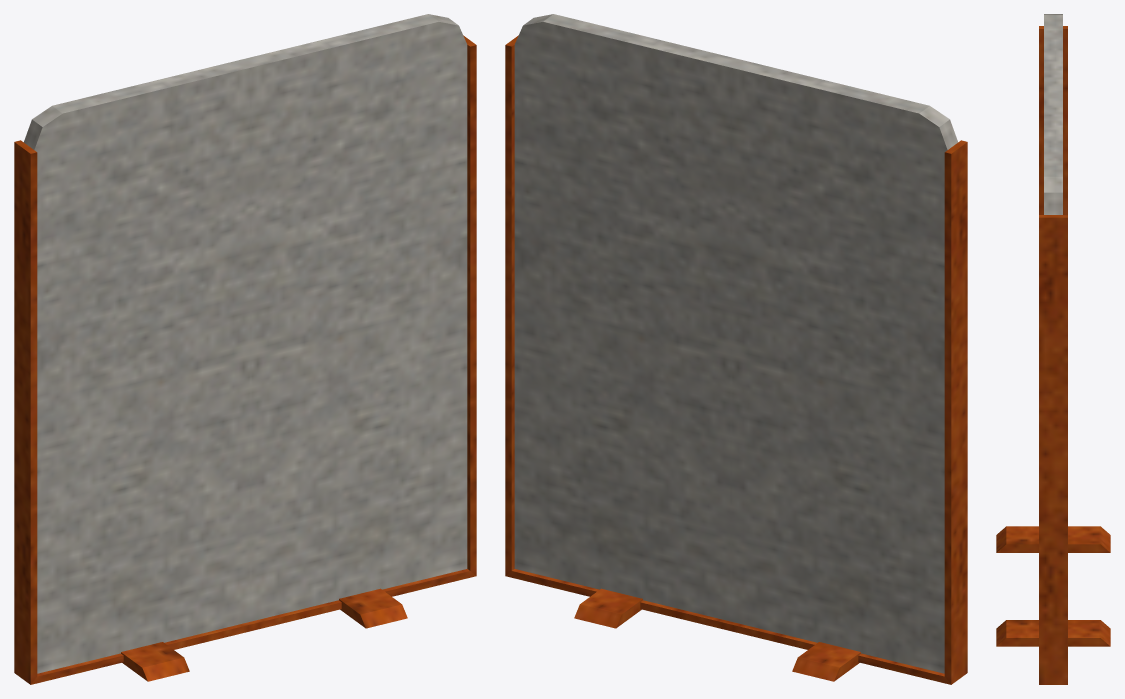
The model's file is divider_veneer_half.fbx.
3 renders of one model, left to right at view 1: azimuth 30°, elevation 25°; view 2: azimuth 150°, elevation 25°; view 3: azimuth 270°, elevation 25°, orthographic. The views are drawn at different scales.
Parts seen in each view (by area): view 1: divider_veneer_half; view 2: divider_veneer_half; view 3: divider_veneer_half.
Boxes of the visible parts, x1=… form: divider_veneer_half: x1=14, y1=14, x2=476, y2=684; divider_veneer_half: x1=505, y1=14, x2=967, y2=684; divider_veneer_half: x1=996, y1=14, x2=1110, y2=684.
Bounding box in the file's own units: 207 × 250 × 52.3.
Materials: 1 (1 with a texture image).
